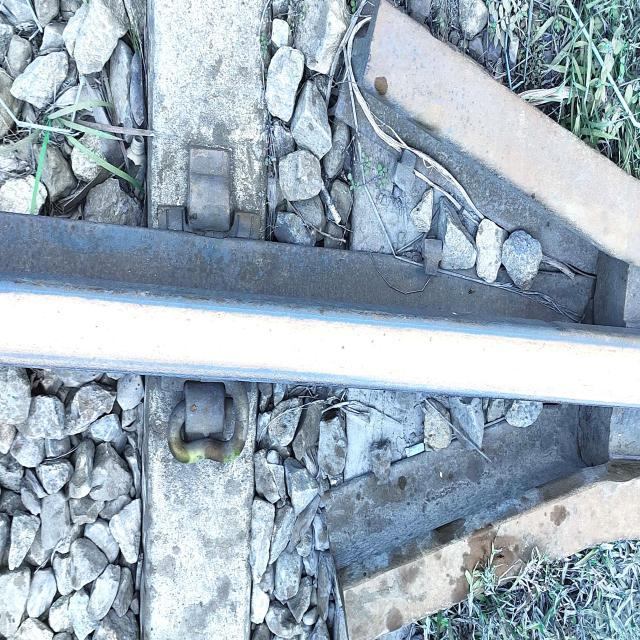Good Fasteners: (156, 371, 256, 498)
Missing Fastener: (176, 139, 246, 229)
